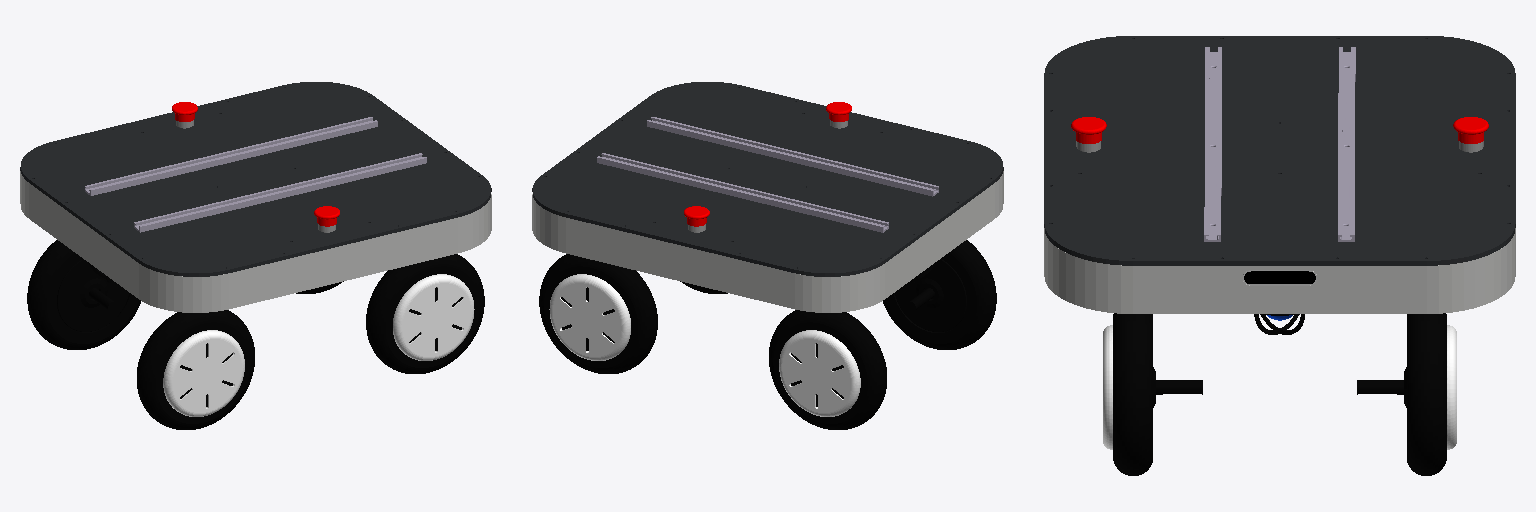
--- What the picture shows (computed from the rendered views, not written in the file) ---
Views: 3 orthographic renders of the robot side by side, from view 1: azimuth 30°, elevation 25°; view 2: azimuth 150°, elevation 25°; view 3: azimuth 270°, elevation 25°.
Robot: sb1_core — 34 links, 33 joints (4 revolute, 4 continuous, 25 fixed); root link base_link; default pose: all joints at 0.
Visible links, largest first — view 1: base_top_plate, base_cover, base_slot_track_rail, rear_right_wheel_tire, front_right_wheel_tire, rear_right_wheel_cover, front_right_wheel_cover, rear_left_wheel_tire, rear_left_wheel_motor; view 2: base_top_plate, base_cover, base_slot_track_rail, rear_left_wheel_tire, front_left_wheel_tire, rear_left_wheel_cover, front_left_wheel_cover, rear_right_wheel_tire, rear_right_wheel_motor; view 3: base_top_plate, base_cover, base_slot_track_rail, front_right_wheel_tire, front_left_wheel_tire, front_right_wheel_cover, front_left_wheel_cover, camera_d435_sensor, front_right_wheel_motor, front_left_wheel_motor, front_right_emergency_button, front_left_emergency_button (+1 smaller).
Link boxes in pixels (x1=…): base_top_plate: x1=20, y1=82, x2=491, y2=276; base_cover: x1=20, y1=171, x2=491, y2=312; base_slot_track_rail: x1=85, y1=117, x2=426, y2=232; rear_right_wheel_tire: x1=137, y1=310, x2=254, y2=429; front_right_wheel_tire: x1=366, y1=254, x2=484, y2=373; rear_right_wheel_cover: x1=163, y1=330, x2=244, y2=416; front_right_wheel_cover: x1=393, y1=274, x2=474, y2=360; rear_left_wheel_tire: x1=27, y1=240, x2=140, y2=349; rear_left_wheel_motor: x1=57, y1=259, x2=128, y2=331; base_top_plate: x1=532, y1=82, x2=1003, y2=276; base_cover: x1=532, y1=171, x2=1003, y2=312; base_slot_track_rail: x1=597, y1=117, x2=938, y2=232; rear_left_wheel_tire: x1=769, y1=310, x2=886, y2=429; front_left_wheel_tire: x1=539, y1=254, x2=657, y2=373; rear_left_wheel_cover: x1=779, y1=330, x2=860, y2=416; front_left_wheel_cover: x1=549, y1=274, x2=630, y2=360; rear_right_wheel_tire: x1=883, y1=240, x2=996, y2=349; rear_right_wheel_motor: x1=895, y1=259, x2=966, y2=331; base_top_plate: x1=1044, y1=36, x2=1515, y2=265; base_cover: x1=1044, y1=228, x2=1515, y2=313; base_slot_track_rail: x1=1204, y1=47, x2=1355, y2=241; front_right_wheel_tire: x1=1113, y1=313, x2=1152, y2=475; front_left_wheel_tire: x1=1407, y1=313, x2=1446, y2=475; front_right_wheel_cover: x1=1103, y1=325, x2=1112, y2=449; front_left_wheel_cover: x1=1447, y1=325, x2=1456, y2=449; camera_d435_sensor: x1=1244, y1=271, x2=1315, y2=283; front_right_wheel_motor: x1=1153, y1=367, x2=1202, y2=407; front_left_wheel_motor: x1=1357, y1=367, x2=1406, y2=407; front_right_emergency_button: x1=1071, y1=117, x2=1106, y2=143; front_left_emergency_button: x1=1453, y1=117, x2=1488, y2=143.
Size in the robot's own frame: 0.6 by 0.53 by 0.3346 metres.
Meshes: 30 distinct files referenced, 26 mesh visuals loaded (1 binary STL, 23 ASCII STL); not drawn: 7 (reference not matched to a file when rendering).

robot.urdf — sb1_core:
<?xml version="1.0"?>
<robot name="sb1_core">

<!-- material color setting -->
<material name="#ffffff">
  <color rgba="1.000 1.000 1.000 1.0"/>
</material>
<material name="#343639">
  <color rgba="0.204 0.212 0.224 1.0"/>
</material>
<material name="#ccccc9">
  <color rgba="0.800 0.800 0.792 1.0"/>
</material>
<material name="#ada8b9">
  <color rgba="0.682 0.659 0.729 1.0"/>
</material>
<material name="#d2d2d2">
  <color rgba="0.827 0.827 0.827 1.0"/>
</material>
<material name="#000000">
  <color rgba="0.000 0.000 0.000 1.0"/>
</material>
<material name="#ff0000">
  <color rgba="1.000 0.000 0.000 1.0"/>
</material>
<material name="#a2a2a2">
  <color rgba="0.639 0.639 0.639 1.0"/>
</material>
<material name="#09090a">
  <color rgba="0.039 0.039 0.043 1.0"/>
</material>
<material name="#0b0b0b">
  <color rgba="0.047 0.047 0.047 1.0"/>
</material>
<material name="#afafaf">
  <color rgba="0.690 0.690 0.690 1.0"/>
</material>
<material name="#155af8">
  <color rgba="0.086 0.353 0.973 1.0"/>
</material>
<material name="#0e0f14">
  <color rgba="0.055 0.059 0.082 1.0"/>
</material>

  <link name="base_link">
  </link>

  <joint name="mobile_base_joint" type="fixed">
    <origin xyz="0 0 0.304" rpy="0.0 0.0 0.0"/>
    <parent link="base_link"/>
    <child link="base_top_plate"/>
  </joint>

  <link name="base_top_plate">
    <inertial>
      <origin xyz="0 0 0" rpy="0 0 0"/>
      <mass value="4.990542"/>
      <inertia ixx="48.696708" ixy="-0.022953" ixz="0.000000" iyy="62.315573" iyz="0.000000" izz="110.974568"/>
    </inertial>
    <visual>
      <origin xyz="0 0 0" rpy="0 0 0"/>
      <geometry>
        <mesh filename="package://sb1_core_description/meshes/base_top_plate.stl"/>
      </geometry>
      <material name="#343639"/>
    </visual>
    <collision>
      <origin xyz="0 0 0" rpy="0 0 0"/>
      <geometry>
        <mesh filename="package://sb1_core_description/meshes/base_top_plate.stl"/>
      </geometry>
    </collision>
  </link>

  <joint name="mobile_base_cover_joint" type="fixed">
    <origin xyz="0.0 0.0 -0.006" rpy="0.0 0.0 0.0"/>
    <parent link="base_top_plate"/>
    <child link="base_cover"/>
  </joint>

  <link name="base_cover">
    <inertial>
      <origin xyz="0 0 0" rpy="0 0 0"/>
      <mass value="1.882015"/>
      <inertia ixx="17.680751" ixy="-0.086606" ixz="-0.121284" iyy="26.121521" iyz="-0.007096" izz="43.458694"/>
    </inertial>
    <visual>
      <origin xyz="0 0 0" rpy="0 0 0"/>
      <geometry>
        <mesh filename="package://sb1_core_description/meshes/base_cover.stl"/>
      </geometry>
      <material name="#ccccc9"/>
    </visual>
    <collision>
      <origin xyz="0 0 0" rpy="0 0 0"/>
      <geometry>
        <mesh filename="package://sb1_core_description/meshes/base_cover.stl"/>
      </geometry>
    </collision>
  </link>

  <joint name="mobile_base_camera_housing_joint" type="fixed">
    <origin xyz="0.3 0.0 -0.015" rpy="0.0 0.0 0.0"/>
    <parent link="base_cover"/>
    <child link="camera_d435_housing"/>
  </joint>

  <link name="camera_d435_housing">
    <inertial>
      <origin xyz="0 0 0" rpy="0 0 0"/>
      <mass value="0.200000"/>
      <inertia ixx="0.050039" ixy="0.000013" ixz="0.000001" iyy="0.010526" iyz="0.000065" izz="0.051553"/>
    </inertial>
    <visual>
      <origin xyz="0 0 0" rpy="0 0 0"/>
      <geometry>
        <mesh filename="package://sb1_core_description/meshes/camera_d435_housing.stl"/>
      </geometry>
      <material name="#d2d2d2"/>
    </visual>
    <collision>
      <origin xyz="0 0 0" rpy="0 0 0"/>
      <geometry>
        <mesh filename="package://sb1_core_description/meshes/camera_d435_housing.stl"/>
      </geometry>
    </collision>
  </link>

  <joint name="camera_housing_sensor_joint" type="fixed">
    <origin xyz="0.0 0.0 -0.0" rpy="0.0 0.0 0.0"/>
    <parent link="camera_d435_housing"/>
    <child link="camera_d435_sensor"/>
  </joint>

  <link name="camera_d435_sensor">
    <inertial>
      <origin xyz="0 0 0" rpy="0 0 0"/>
      <mass value="0.050000"/>
      <inertia ixx="0.301856" ixy="0.000994" ixz="0.000000" iyy="6.983010" iyz="0.000000" izz="7.277867"/>
    </inertial>
    <visual>
      <origin xyz="0 0 0" rpy="0 0 0"/>
      <geometry>
        <mesh filename="package://sb1_core_description/meshes/camera_d435_sensor.stl"/>
      </geometry>
      <material name="#000000"/>
    </visual>
    <collision>
      <origin xyz="0 0 0" rpy="0 0 0"/>
      <geometry>
        <mesh filename="package://sb1_core_description/meshes/camera_d435_sensor.stl"/>
      </geometry>
    </collision>
  </link>

  <joint name="mobile_base_front_lidar_base_joint" type="fixed">
    <origin xyz="0.25 0.0 -0.0275" rpy="0.0 0.0 0.0"/>
    <parent link="base_cover"/>
    <child link="front_mid360_base"/>
  </joint>

  <link name="front_mid360_base">
    <inertial>
      <origin xyz="0 0 0" rpy="0 0 0"/>
      <mass value="0.400000"/>
      <inertia ixx="0.098896" ixy="0.000053" ixz="0.002586" iyy="0.115546" iyz="0.000199" izz="0.154728"/>
    </inertial>
    <visual>
      <origin xyz="0 0 0" rpy="0 0 0"/>
      <geometry>
        <mesh filename="package://sb1_core_description/meshes/mid360_base.stl"/>
      </geometry>
      <material name="#afafaf"/>
    </visual>
    <collision>
      <origin xyz="0 0 0" rpy="0 0 0"/>
      <geometry>
        <mesh filename="package://sb1_core_description/meshes/mid360_base.stl"/>
      </geometry>
    </collision>
  </link>

  <joint name="front_lidar_base_sensor_joint" type="fixed">
    <origin xyz="0.0 0.0 -0.0395" rpy="0.0 0.0 0.0"/>
    <parent link="front_mid360_base"/>
    <child link="front_mid360_sensor"/>
  </joint>

  <link name="front_mid360_sensor">
    <inertial>
      <origin xyz="0 0 0" rpy="0 0 0"/>
      <mass value="0.050000"/>
      <inertia ixx="0.004322" ixy="-0.000000" ixz="0.000000" iyy="0.004238" iyz="0.000198" izz="0.005637"/>
    </inertial>
    <visual>
      <origin xyz="0 0 0" rpy="0 0 0"/>
      <geometry>
        <mesh filename="package://sb1_core_description/meshes/mid360_sensor.stl"/>
      </geometry>
      <material name="#155af8"/>
    </visual>
    <collision>
      <origin xyz="0 0 0" rpy="0 0 0"/>
      <geometry>
        <mesh filename="package://sb1_core_description/meshes/mid360_sensor.stl"/>
      </geometry>
    </collision>
  </link>

  <joint name="mobile_base_rear_lidar_base_joint" type="fixed">
    <origin xyz="-0.25 0.0 -0.0275" rpy="0.0 0.0 0.0"/>
    <parent link="base_cover"/>
    <child link="rear_mid360_base"/>
  </joint>

  <link name="rear_mid360_base">
    <inertial>
      <origin xyz="0 0 0" rpy="0 0 0"/>
      <mass value="0.400000"/>
      <inertia ixx="0.166873" ixy="0.000847" ixz="0.001567" iyy="0.169140" iyz="-0.000300" izz="0.179625"/>
    </inertial>
    <visual>
      <origin xyz="0 0 0" rpy="0 0 3.14159"/>
      <geometry>
        <mesh filename="package://sb1_core_description/meshes/mid360_base.stl"/>
      </geometry>
      <material name="#afafaf"/>
    </visual>
    <collision>
      <origin xyz="0 0 0" rpy="0 0 3.14159"/>
      <geometry>
        <mesh filename="package://sb1_core_description/meshes/mid360_base.stl"/>
      </geometry>
    </collision>
  </link>

  <joint name="rear_lidar_base_sensor_joint" type="fixed">
    <origin xyz="0.0 -0.0 -0.0395" rpy="0.0 0.0 0.0"/>
    <parent link="rear_mid360_base"/>
    <child link="rear_mid360_sensor"/>
  </joint>

  <link name="rear_mid360_sensor">
    <inertial>
      <origin xyz="0 0 0" rpy="0 0 0"/>
      <mass value="0.050000"/>
      <inertia ixx="0.004419" ixy="-0.000000" ixz="-0.000000" iyy="0.004407" iyz="-0.000081" izz="0.004635"/>
    </inertial>
    <visual>
      <origin xyz="0 0 0" rpy="0 0 0"/>
      <geometry>
        <mesh filename="package://sb1_core_description/meshes/mid360_sensor.stl"/>
      </geometry>
      <material name="#155af8"/>
    </visual>
    <collision>
      <origin xyz="0 0 0" rpy="0 0 0"/>
      <geometry>
        <mesh filename="package://sb1_core_description/meshes/mid360_sensor.stl"/>
      </geometry>
    </collision>
  </link>

  <joint name="mobile_base_bottom_plate_joint" type="fixed">
    <origin xyz="0.0 0.0 -0.06" rpy="0.0 0.0 0.0"/>
    <parent link="base_cover"/>
    <child link="base_bottom_plate"/>
  </joint>

  <link name="base_bottom_plate">
    <inertial>
      <origin xyz="0 0 0" rpy="0 0 0"/>
      <mass value="4.223212"/>
      <inertia ixx="42.888625" ixy="-0.000688" ixz="0.000659" iyy="51.764424" iyz="-0.000384" izz="94.620526"/>
    </inertial>
    <visual>
      <origin xyz="0 0 0" rpy="0 0 0"/>
      <geometry>
        <mesh filename="package://sb1_core_description/meshes/base_bottom_plate.stl"/>
      </geometry>
      <material name="#343639"/>
    </visual>
    <collision>
      <origin xyz="0 0 0" rpy="0 0 0"/>
      <geometry>
        <mesh filename="package://sb1_core_description/meshes/base_bottom_plate.stl"/>
      </geometry>
    </collision>
  </link>

  <joint name="right_front_steering_joint" type="revolute">
    <origin xyz="0.2 -0.165 0.0" rpy="0.0 0.0 0.0"/>
    <axis xyz="0 0 1"/>
    <parent link="base_bottom_plate"/>
    <child link="front_right_swerve_unit"/>
    <limit lower="-3.1415926535" upper="3.1415926535" effort="0" velocity="0"/>
  </joint>

  <link name="front_right_swerve_unit">
    <inertial>
      <origin xyz="0 0 0" rpy="0 0 0"/>
      <mass value="2.500000"/>
      <inertia ixx="5.645400" ixy="-0.000007" ixz="0.000712" iyy="5.494431" iyz="0.761841" izz="5.158045"/>
    </inertial>
    <visual>
      <origin xyz="0 0 0" rpy="0 0 0"/>
      <geometry>
        <mesh filename="package://sb1_core_description/meshes/front_right_swerve_unit.stl"/>
      </geometry>
      <material name="#09090a"/>
    </visual>
    <collision>
      <origin xyz="0 0 0" rpy="0 0 0"/>
      <geometry>
        <mesh filename="package://sb1_core_description/meshes/front_right_swerve_unit.stl"/>
      </geometry>
    </collision>
  </link>

  <joint name="right_front_wheel_joint" type="fixed">
    <origin xyz="8e-06 0.0785 -0.1376" rpy="0.0 0.0 0.0"/>
    <parent link="front_right_swerve_unit"/>
    <child link="front_right_wheel_motor"/>
  </joint>

  <link name="front_right_wheel_motor">
    <inertial>
      <origin xyz="0 0 0" rpy="0 0 0"/>
      <mass value="3.043953"/>
      <inertia ixx="3.807828" ixy="0.000148" ixz="-0.000002" iyy="4.046208" iyz="-0.000518" izz="3.807930"/>
    </inertial>
    <visual>
      <origin xyz="0 0 0" rpy="0 0 0"/>
      <geometry>
        <mesh filename="package://sb1_core_description/meshes/front_right_wheel_motor.stl"/>
      </geometry>
      <material name="#0b0b0b"/>
    </visual>
    <collision>
      <origin xyz="0 0 0" rpy="0 0 0"/>
      <geometry>
        <mesh filename="package://sb1_core_description/meshes/front_right_wheel_motor.stl"/>
      </geometry>
    </collision>
  </link>

  <joint name="right_front_drive_joint" type="continuous">
    <origin xyz="0.0 -0.101 0.0" rpy="0.0 0.0 0.0"/>
    <axis xyz="0 1 0"/>
    <parent link="front_right_wheel_motor"/>
    <child link="front_right_wheel_tire"/>
  </joint>

  <link name="front_right_wheel_tire">
    <inertial>
      <origin xyz="0 0 0" rpy="0 0 0"/>
      <mass value="1.000000"/>
      <inertia ixx="0.823746" ixy="0.000000" ixz="0.000000" iyy="0.902785" iyz="0.000000" izz="0.823724"/>
    </inertial>
    <visual>
      <origin xyz="0 0 0" rpy="0 0 0"/>
      <geometry>
        <mesh filename="package://sb1_core_description/meshes/front_right_wheel_tire.stl"/>
      </geometry>
      <material name="#0b0b0b"/>
    </visual>
    <collision>
      <origin xyz="0 0 0" rpy="0 0 0"/>
      <geometry>
        <mesh filename="package://sb1_core_description/meshes/front_right_wheel_tire.stl"/>
      </geometry>
    </collision>
  </link>

  <joint name="right_front_wheel_cover_joint" type="fixed">
    <origin xyz="0.0 -0.111 0.0" rpy="0.0 0.0 0.0"/>
    <parent link="front_right_wheel_motor"/>
    <child link="front_right_wheel_cover"/>
  </joint>

  <link name="front_right_wheel_cover">
    <inertial>
      <origin xyz="0 0 0" rpy="0 0 0"/>
      <mass value="0.078001"/>
      <inertia ixx="0.239691" ixy="0.000004" ixz="0.000151" iyy="0.225503" iyz="-0.000534" izz="0.239640"/>
    </inertial>
    <visual>
      <origin xyz="0 0 0" rpy="0 0 0"/>
      <geometry>
        <mesh filename="package://sb1_core_description/meshes/front_right_wheel_cover.stl"/>
      </geometry>
      <material name="#ffffff"/>
    </visual>
    <collision>
      <origin xyz="0 0 0" rpy="0 0 0"/>
      <geometry>
        <mesh filename="package://sb1_core_description/meshes/front_right_wheel_cover.stl"/>
      </geometry>
    </collision>
  </link>

  <joint name="right_rear_steering_joint" type="revolute">
    <origin xyz="-0.2 -0.165 0.0" rpy="0.0 0.0 0.0"/>
    <axis xyz="0 0 1"/>
    <parent link="base_bottom_plate"/>
    <child link="rear_right_swerve_unit"/>
    <limit lower="-3.1415926535" upper="3.1415926535" effort="0" velocity="0"/>
  </joint>

  <link name="rear_right_swerve_unit">
    <inertial>
      <origin xyz="0 0 0" rpy="0 0 0"/>
      <mass value="2.500000"/>
      <inertia ixx="5.769726" ixy="0.000007" ixz="-0.000728" iyy="5.615432" iyz="0.778619" izz="5.271638"/>
    </inertial>
    <visual>
      <origin xyz="0 0 0" rpy="0 0 0"/>
      <geometry>
        <mesh filename="package://sb1_core_description/meshes/rear_right_swerve_unit.stl"/>
      </geometry>
      <material name="#09090a"/>
    </visual>
    <collision>
      <origin xyz="0 0 0" rpy="0 0 0"/>
      <geometry>
        <mesh filename="package://sb1_core_description/meshes/rear_right_swerve_unit.stl"/>
      </geometry>
    </collision>
  </link>

  <joint name="right_rear_wheel_joint" type="fixed">
    <origin xyz="-8e-06 0.0785 -0.1376" rpy="0.0 0.0 0.0"/>
    <parent link="rear_right_swerve_unit"/>
    <child link="rear_right_wheel_motor"/>
  </joint>

  <link name="rear_right_wheel_motor">
    <inertial>
      <origin xyz="0 0 0" rpy="0 0 0"/>
      <mass value="3.043953"/>
      <inertia ixx="1.493808" ixy="-0.000058" ixz="0.000001" iyy="1.587324" iyz="-0.000203" izz="1.493848"/>
    </inertial>
    <visual>
      <origin xyz="0 0 0" rpy="0 0 0"/>
      <geometry>
        <mesh filename="package://sb1_core_description/meshes/rear_right_wheel_motor.stl"/>
      </geometry>
      <material name="#0b0b0b"/>
    </visual>
    <collision>
      <origin xyz="0 0 0" rpy="0 0 0"/>
      <geometry>
        <mesh filename="package://sb1_core_description/meshes/rear_right_wheel_motor.stl"/>
      </geometry>
    </collision>
  </link>

  <joint name="right_rear_drive_joint" type="continuous">
    <origin xyz="-0.0 -0.101 0.0" rpy="0.0 0.0 0.0"/>
    <axis xyz="0 1 0"/>
    <parent link="rear_right_wheel_motor"/>
    <child link="rear_right_wheel_tire"/>
  </joint>

  <link name="rear_right_wheel_tire">
    <inertial>
      <origin xyz="0 0 0" rpy="0 0 0"/>
      <mass value="1.000000"/>
      <inertia ixx="0.823746" ixy="-0.000000" ixz="0.000000" iyy="0.902785" iyz="0.000000" izz="0.823724"/>
    </inertial>
    <visual>
      <origin xyz="0 0 0" rpy="0 0 0"/>
      <geometry>
        <mesh filename="package://sb1_core_description/meshes/rear_right_wheel_tire.stl"/>
      </geometry>
      <material name="#0b0b0b"/>
    </visual>
    <collision>
      <origin xyz="0 0 0" rpy="0 0 0"/>
      <geometry>
        <mesh filename="package://sb1_core_description/meshes/rear_right_wheel_tire.stl"/>
      </geometry>
    </collision>
  </link>

  <joint name="right_rear_wheel_cover_joint" type="fixed">
    <origin xyz="-0.0 -0.111 0.0" rpy="0.0 0.0 0.0"/>
    <parent link="rear_right_wheel_motor"/>
    <child link="rear_right_wheel_cover"/>
  </joint>

  <link name="rear_right_wheel_cover">
    <inertial>
      <origin xyz="0 0 0" rpy="0 0 0"/>
      <mass value="0.078001"/>
      <inertia ixx="0.239691" ixy="-0.000004" ixz="-0.000151" iyy="0.225503" iyz="-0.000534" izz="0.239640"/>
    </inertial>
    <visual>
      <origin xyz="0 0 0" rpy="0 0 0"/>
      <geometry>
        <mesh filename="package://sb1_core_description/meshes/rear_right_wheel_cover.stl"/>
      </geometry>
      <material name="#ffffff"/>
    </visual>
    <collision>
      <origin xyz="0 0 0" rpy="0 0 0"/>
      <geometry>
        <mesh filename="package://sb1_core_description/meshes/rear_right_wheel_cover.stl"/>
      </geometry>
    </collision>
  </link>

  <joint name="left_rear_steering_joint" type="revolute">
    <origin xyz="-0.2 0.165 0.0" rpy="0.0 0.0 0.0"/>
    <axis xyz="0 0 1"/>
    <parent link="base_bottom_plate"/>
    <child link="rear_left_swerve_unit"/>
    <limit lower="-3.1415926535" upper="3.1415926535" effort="0" velocity="0"/>
  </joint>

  <link name="rear_left_swerve_unit">
    <inertial>
      <origin xyz="0 0 0" rpy="0 0 0"/>
      <mass value="2.500000"/>
      <inertia ixx="6.398750" ixy="-0.000008" ixz="-0.000807" iyy="6.227634" iyz="-0.863505" izz="5.846360"/>
    </inertial>
    <visual>
      <origin xyz="0 0 0" rpy="0 0 0"/>
      <geometry>
        <mesh filename="package://sb1_core_description/meshes/rear_left_swerve_unit.stl"/>
      </geometry>
      <material name="#09090a"/>
    </visual>
    <collision>
      <origin xyz="0 0 0" rpy="0 0 0"/>
      <geometry>
        <mesh filename="package://sb1_core_description/meshes/rear_left_swerve_unit.stl"/>
      </geometry>
    </collision>
  </link>

  <joint name="left_rear_wheel_joint" type="fixed">
    <origin xyz="-8e-06 -0.0785 -0.1376" rpy="0.0 0.0 0.0"/>
    <parent link="rear_left_swerve_unit"/>
    <child link="rear_left_wheel_motor"/>
  </joint>

  <link name="rear_left_wheel_motor">
    <inertial>
      <origin xyz="0 0 0" rpy="0 0 0"/>
      <mass value="3.043953"/>
      <inertia ixx="1.500927" ixy="0.000058" ixz="0.000001" iyy="1.594889" iyz="0.000204" izz="1.500967"/>
    </inertial>
    <visual>
      <origin xyz="0 0 0" rpy="0 0 0"/>
      <geometry>
        <mesh filename="package://sb1_core_description/meshes/rear_left_wheel_motor.stl"/>
      </geometry>
      <material name="#0b0b0b"/>
    </visual>
    <collision>
      <origin xyz="0 0 0" rpy="0 0 0"/>
      <geometry>
        <mesh filename="package://sb1_core_description/meshes/rear_left_wheel_motor.stl"/>
      </geometry>
    </collision>
  </link>

  <joint name="left_rear_drive_joint" type="continuous">
    <origin xyz="-0.0 0.101 0.0" rpy="0.0 0.0 0.0"/>
    <axis xyz="0 1 0"/>
    <parent link="rear_left_wheel_motor"/>
    <child link="rear_left_wheel_tire"/>
  </joint>

  <link name="rear_left_wheel_tire">
    <inertial>
      <origin xyz="0 0 0" rpy="0 0 0"/>
      <mass value="1.000000"/>
      <inertia ixx="0.823746" ixy="0.000000" ixz="0.000000" iyy="0.902785" iyz="0.000000" izz="0.823724"/>
    </inertial>
    <visual>
      <origin xyz="0 0 0" rpy="0 0 0"/>
      <geometry>
        <mesh filename="package://sb1_core_description/meshes/rear_left_wheel_tire.stl"/>
      </geometry>
      <material name="#0b0b0b"/>
    </visual>
    <collision>
      <origin xyz="0 0 0" rpy="0 0 0"/>
      <geometry>
        <mesh filename="package://sb1_core_description/meshes/rear_left_wheel_tire.stl"/>
      </geometry>
    </collision>
  </link>

  <joint name="left_rear_wheel_cover_joint" type="fixed">
    <origin xyz="-0.0 0.111 0.0" rpy="0.0 0.0 0.0"/>
    <parent link="rear_left_wheel_motor"/>
    <child link="rear_left_wheel_cover"/>
  </joint>

  <link name="rear_left_wheel_cover">
    <inertial>
      <origin xyz="0 0 0" rpy="0 0 0"/>
      <mass value="0.078001"/>
      <inertia ixx="0.239691" ixy="0.000004" ixz="-0.000151" iyy="0.225503" iyz="0.000534" izz="0.239640"/>
    </inertial>
    <visual>
      <origin xyz="0 0 0" rpy="0 0 0"/>
      <geometry>
        <mesh filename="package://sb1_core_description/meshes/rear_left_wheel_cover.stl"/>
      </geometry>
      <material name="#ffffff"/>
    </visual>
    <collision>
      <origin xyz="0 0 0" rpy="0 0 0"/>
      <geometry>
        <mesh filename="package://sb1_core_description/meshes/rear_left_wheel_cover.stl"/>
      </geometry>
    </collision>
  </link>

  <joint name="left_front_steering_joint" type="revolute">
    <origin xyz="0.2 0.165 0.0" rpy="0.0 0.0 0.0"/>
    <axis xyz="0 0 1"/>
    <parent link="base_bottom_plate"/>
    <child link="front_left_swerve_unit"/>
    <limit lower="-3.1415926535" upper="3.1415926535" effort="0" velocity="0"/>
  </joint>

  <link name="front_left_swerve_unit">
    <inertial>
      <origin xyz="0 0 0" rpy="0 0 0"/>
      <mass value="2.500000"/>
      <inertia ixx="6.299649" ixy="0.000007" ixz="0.000795" iyy="6.131184" iyz="-0.850132" izz="5.755814"/>
    </inertial>
    <visual>
      <origin xyz="0 0 0" rpy="0 0 0"/>
      <geometry>
        <mesh filename="package://sb1_core_description/meshes/front_left_swerve_unit.stl"/>
      </geometry>
      <material name="#09090a"/>
    </visual>
    <collision>
      <origin xyz="0 0 0" rpy="0 0 0"/>
      <geometry>
        <mesh filename="package://sb1_core_description/meshes/front_left_swerve_unit.stl"/>
      </geometry>
    </collision>
  </link>

  <joint name="left_front_wheel_joint" type="fixed">
    <origin xyz="8e-06 -0.0785 -0.1376" rpy="0.0 0.0 0.0"/>
    <parent link="front_left_swerve_unit"/>
    <child link="front_left_wheel_motor"/>
  </joint>

  <link name="front_left_wheel_motor">
    <inertial>
      <origin xyz="0 0 0" rpy="0 0 0"/>
      <mass value="3.043953"/>
      <inertia ixx="3.732870" ixy="-0.000145" ixz="-0.000002" iyy="3.966557" iyz="0.000508" izz="3.732969"/>
    </inertial>
    <visual>
      <origin xyz="0 0 0" rpy="0 0 0"/>
      <geometry>
        <mesh filename="package://sb1_core_description/meshes/front_left_wheel_motor.stl"/>
      </geometry>
      <material name="#0b0b0b"/>
    </visual>
    <collision>
      <origin xyz="0 0 0" rpy="0 0 0"/>
      <geometry>
        <mesh filename="package://sb1_core_description/meshes/front_left_wheel_motor.stl"/>
      </geometry>
    </collision>
  </link>

  <joint name="left_front_drive_joint" type="continuous">
    <origin xyz="0.0 0.101 0.0" rpy="0.0 0.0 0.0"/>
    <axis xyz="0 1 0"/>
    <parent link="front_left_wheel_motor"/>
    <child link="front_left_wheel_tire"/>
  </joint>

  <link name="front_left_wheel_tire">
    <inertial>
      <origin xyz="0 0 0" rpy="0 0 0"/>
      <mass value="1.000000"/>
      <inertia ixx="0.823746" ixy="-0.000000" ixz="0.000000" iyy="0.902785" iyz="0.000000" izz="0.823724"/>
    </inertial>
    <visual>
      <origin xyz="0 0 0" rpy="0 0 0"/>
      <geometry>
        <mesh filename="package://sb1_core_description/meshes/front_left_wheel_tire.stl"/>
      </geometry>
      <material name="#0b0b0b"/>
    </visual>
    <collision>
      <origin xyz="0 0 0" rpy="0 0 0"/>
      <geometry>
        <mesh filename="package://sb1_core_description/meshes/front_left_wheel_tire.stl"/>
      </geometry>
    </collision>
  </link>

  <joint name="left_front_wheel_cover_joint" type="fixed">
    <origin xyz="0.0 0.111 0.0" rpy="0.0 0.0 0.0"/>
    <parent link="front_left_wheel_motor"/>
    <child link="front_left_wheel_cover"/>
  </joint>

  <link name="front_left_wheel_cover">
    <inertial>
      <origin xyz="0 0 0" rpy="0 0 0"/>
      <mass value="0.078001"/>
      <inertia ixx="0.060361" ixy="-0.000000" ixz="0.000022" iyy="0.119002" iyz="-0.000002" izz="0.060370"/>
    </inertial>
    <visual>
      <origin xyz="0 0 0" rpy="0 0 0"/>
      <geometry>
        <mesh filename="package://sb1_core_description/meshes/front_left_wheel_cover.stl"/>
      </geometry>
      <material name="#ffffff"/>
    </visual>
    <collision>
      <origin xyz="0 0 0" rpy="0 0 0"/>
      <geometry>
        <mesh filename="package://sb1_core_description/meshes/front_left_wheel_cover.stl"/>
      </geometry>
    </collision>
  </link>

  <joint name="mobile_base_speaker_joint" type="fixed">
    <origin xyz="0.12 0.0 -0.006" rpy="0.0 0.0 0.0"/>
    <parent link="base_bottom_plate"/>
    <child link="speaker"/>
  </joint>

  <link name="speaker">
    <inertial>
      <origin xyz="0 0 0" rpy="0 0 0"/>
      <mass value="0.050000"/>
      <inertia ixx="0.042483" ixy="-0.000004" ixz="0.000000" iyy="0.123280" iyz="0.000000" izz="0.160350"/>
    </inertial>
    <visual>
      <origin xyz="0 0 0" rpy="0 0 0"/>
      <geometry>
        <mesh filename="package://sb1_core_description/meshes/speaker.stl"/>
      </geometry>
      <material name="#0e0f14"/>
    </visual>
    <collision>
      <origin xyz="0 0 0" rpy="0 0 0"/>
      <geometry>
        <mesh filename="package://sb1_core_description/meshes/speaker.stl"/>
      </geometry>
    </collision>
  </link>

  <joint name="mobile_base_front_lidar_cover_joint" type="fixed">
    <origin xyz="0.25 0.0 -0.006" rpy="0.0 0.0 0.0"/>
    <parent link="base_bottom_plate"/>
    <child link="front_mid360_cover"/>
  </joint>

  <link name="front_mid360_cover">
    <inertial>
      <origin xyz="0 0 0" rpy="0 0 0"/>
      <mass value="0.048432"/>
      <inertia ixx="0.077963" ixy="-0.000000" ixz="0.000012" iyy="0.077963" iyz="0.000096" izz="0.109309"/>
    </inertial>
    <visual>
      <origin xyz="0 0 0" rpy="0 0 0"/>
      <geometry>
        <mesh filename="package://sb1_core_description/meshes/mid360_cover.stl"/>
      </geometry>
      <material name="#0b0b0b"/>
    </visual>
    <collision>
      <origin xyz="0 0 0" rpy="0 0 0"/>
      <geometry>
        <mesh filename="package://sb1_core_description/meshes/mid360_cover.stl"/>
      </geometry>
    </collision>
  </link>

  <joint name="mobile_base_rear_lidar_cover_joint" type="fixed">
    <origin xyz="-0.25 0.0 -0.006" rpy="0.0 0.0 0.0"/>
    <parent link="base_bottom_plate"/>
    <child link="rear_mid360_cover"/>
  </joint>

  <link name="rear_mid360_cover">
    <inertial>
      <origin xyz="0 0 0" rpy="0 0 0"/>
      <mass value="0.048432"/>
      <inertia ixx="0.077963" ixy="-0.000000" ixz="0.000012" iyy="0.077963" iyz="0.000096" izz="0.109309"/>
    </inertial>
    <visual>
      <origin xyz="0 0 0" rpy="0 0 0"/>
      <geometry>
        <mesh filename="package://sb1_core_description/meshes/mid360_cover.stl"/>
      </geometry>
      <material name="#0b0b0b"/>
    </visual>
    <collision>
      <origin xyz="0 0 0" rpy="0 0 0"/>
      <geometry>
        <mesh filename="package://sb1_core_description/meshes/mid360_cover.stl"/>
      </geometry>
    </collision>
  </link>

  <joint name="mobile_base_right_front_emergency_stop_base_joint" type="fixed">
    <origin xyz="0.0 -0.215 -0.006" rpy="0.0 0.0 0.0"/>
    <parent link="base_top_plate"/>
    <child link="front_right_emergency_button_base"/>
  </joint>

  <link name="front_right_emergency_button_base">
    <inertial>
      <origin xyz="0 0 0" rpy="0 0 0"/>
      <mass value="0.210896"/>
      <inertia ixx="0.052431" ixy="0.000232" ixz="0.000077" iyy="0.053593" iyz="0.000000" izz="0.045002"/>
    </inertial>
    <visual>
      <origin xyz="0 0 0" rpy="0 0 0"/>
      <geometry>
        <mesh filename="package://sb1_core_description/meshes/front_right_emergency_button_base.stl"/>
      </geometry>
      <material name="#a2a2a2"/>
    </visual>
    <collision>
      <origin xyz="0 0 0" rpy="0 0 0"/>
      <geometry>
        <mesh filename="package://sb1_core_description/meshes/front_right_emergency_button_base.stl"/>
      </geometry>
    </collision>
  </link>

  <joint name="right_front_emergency_stop_button_joint" type="fixed">
    <origin xyz="0.0 -0.0 0.018" rpy="0.0 0.0 0.0"/>
    <parent link="front_right_emergency_button_base"/>
    <child link="front_right_emergency_button"/>
  </joint>

  <link name="front_right_emergency_button">
    <inertial>
      <origin xyz="0 0 0" rpy="0 0 0"/>
      <mass value="0.054164"/>
      <inertia ixx="0.004721" ixy="-0.000000" ixz="0.000009" iyy="0.004721" iyz="0.000000" izz="0.004863"/>
    </inertial>
    <visual>
      <origin xyz="0 0 0" rpy="0 0 0"/>
      <geometry>
        <mesh filename="package://sb1_core_description/meshes/front_right_emergency_button.stl"/>
      </geometry>
      <material name="#ff0000"/>
    </visual>
    <collision>
      <origin xyz="0 0 0" rpy="0 0 0"/>
      <geometry>
        <mesh filename="package://sb1_core_description/meshes/front_right_emergency_button.stl"/>
      </geometry>
    </collision>
  </link>

  <joint name="mobile_base_left_front_emergency_stop_base_joint" type="fixed">
    <origin xyz="0.0 0.215 -0.006" rpy="0.0 0.0 0.0"/>
    <parent link="base_top_plate"/>
    <child link="front_left_emergency_button_base"/>
  </joint>

  <link name="front_left_emergency_button_base">
    <inertial>
      <origin xyz="0 0 0" rpy="0 0 0"/>
      <mass value="0.210896"/>
      <inertia ixx="0.047120" ixy="0.000033" ixz="0.000128" iyy="0.049794" iyz="-0.000000" izz="0.013580"/>
    </inertial>
    <visual>
      <origin xyz="0 0 0" rpy="0 0 0"/>
      <geometry>
        <mesh filename="package://sb1_core_description/meshes/front_left_emergency_button_base.stl"/>
      </geometry>
      <material name="#a2a2a2"/>
    </visual>
    <collision>
      <origin xyz="0 0 0" rpy="0 0 0"/>
      <geometry>
        <mesh filename="package://sb1_core_description/meshes/front_left_emergency_button_base.stl"/>
      </geometry>
    </collision>
  </link>

  <joint name="left_front_emergency_stop_button_joint" type="fixed">
    <origin xyz="0.0 0.0 0.018" rpy="0.0 0.0 0.0"/>
    <parent link="front_left_emergency_button_base"/>
    <child link="front_left_emergency_button"/>
  </joint>

  <link name="front_left_emergency_button">
    <inertial>
      <origin xyz="0 0 0" rpy="0 0 0"/>
      <mass value="0.054164"/>
      <inertia ixx="0.003193" ixy="-0.000000" ixz="0.000016" iyy="0.003194" iyz="0.000000" izz="0.003898"/>
    </inertial>
    <visual>
      <origin xyz="0 0 0" rpy="0 0 0"/>
      <geometry>
        <mesh filename="package://sb1_core_description/meshes/front_left_emergency_button.stl"/>
      </geometry>
      <material name="#ff0000"/>
    </visual>
    <collision>
      <origin xyz="0 0 0" rpy="0 0 0"/>
      <geometry>
        <mesh filename="package://sb1_core_description/meshes/front_left_emergency_button.stl"/>
      </geometry>
    </collision>
  </link>

  <joint name="mobile_base_track_rail_joint" type="fixed">
    <origin xyz="0.0 0.0 0.0" rpy="0.0 0.0 0.0"/>
    <parent link="base_top_plate"/>
    <child link="base_slot_track_rail"/>
  </joint>

  <link name="base_slot_track_rail">
    <inertial>
      <origin xyz="0 0 0" rpy="0 0 0"/>
      <mass value="0.800000"/>
      <inertia ixx="4.433033" ixy="-0.000734" ixz="0.000000" iyy="14.685867" iyz="-0.000000" izz="19.092831"/>
    </inertial>
    <visual>
      <origin xyz="0 0 0" rpy="0 0 0"/>
      <geometry>
        <mesh filename="package://sb1_core_description/meshes/base_slot_track_rail.stl"/>
      </geometry>
      <material name="#ada8b9"/>
    </visual>
    <collision>
      <origin xyz="0 0 0" rpy="0 0 0"/>
      <geometry>
        <mesh filename="package://sb1_core_description/meshes/base_slot_track_rail.stl"/>
      </geometry>
    </collision>
  </link>

</robot>
